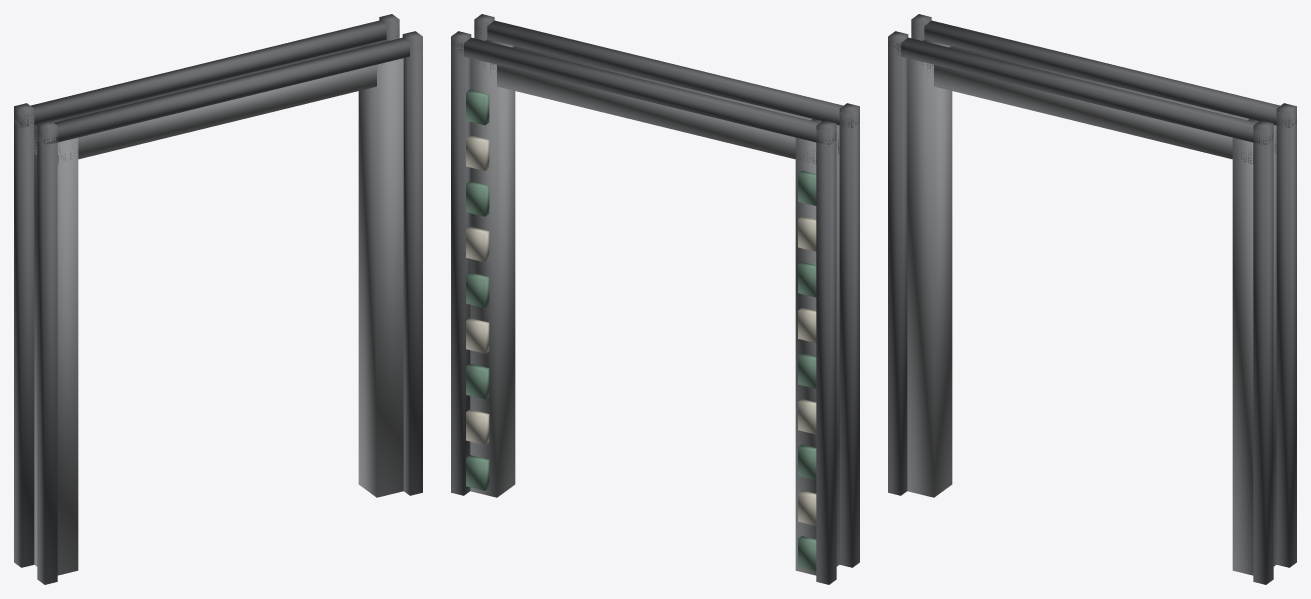
Rendered from doorway_tile_return_w152_h200_d16.glb.
The picture shows the model from 3 angles, left to right: view 1: azimuth 30°, elevation 25°; view 2: azimuth 150°, elevation 25°; view 3: azimuth 330°, elevation 25°; orthographic projection.
Parts seen in each view (by area): view 1: world; view 2: world; view 3: world.
Boxes of the visible parts, box(x1,y1,x2,y2) form: world: box(14, 14, 422, 584); world: box(451, 14, 859, 584); world: box(888, 14, 1296, 584).
Bounding box in the file's own units: 1.92 × 2.22 × 0.2716.
